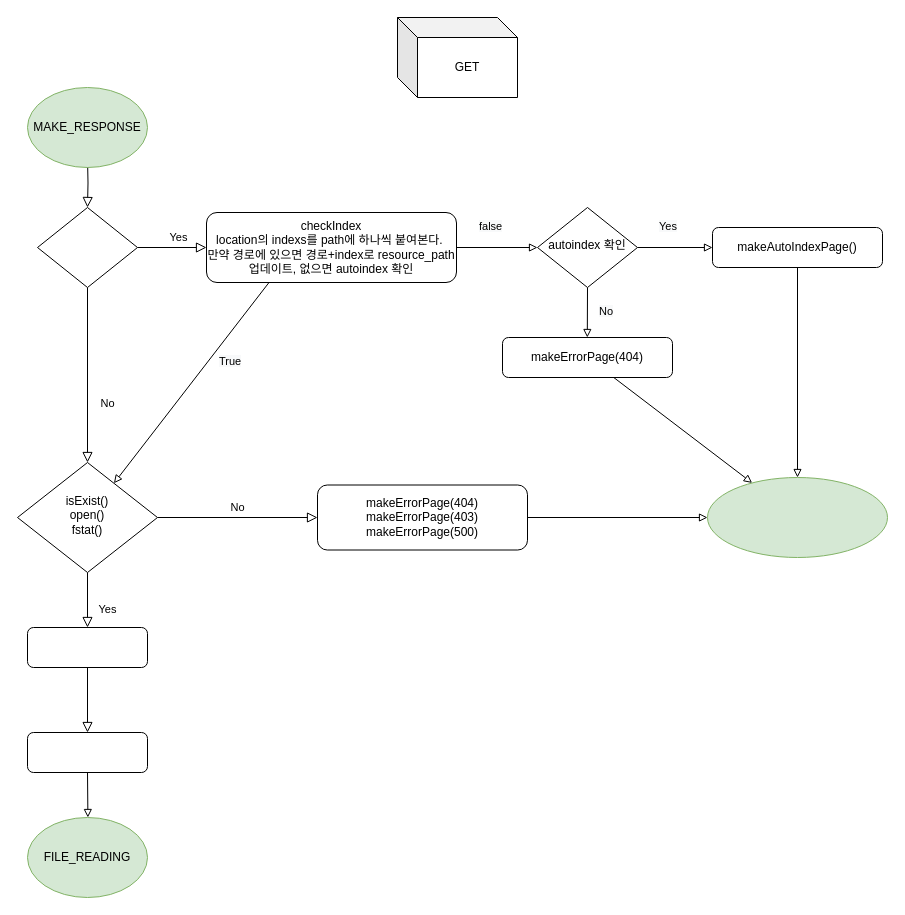
This 905x915 diagram has some shape labels left out. Each missing label, with the centre of its shape:
"isDirectory()" belongs at (x=87, y=247).
"MAKE_RESPONSE_DONE writeClient하러 감" belongs at (x=797, y=517).
"makeHeader()" belongs at (x=87, y=647).
"setResource(READ)" belongs at (x=87, y=752).
